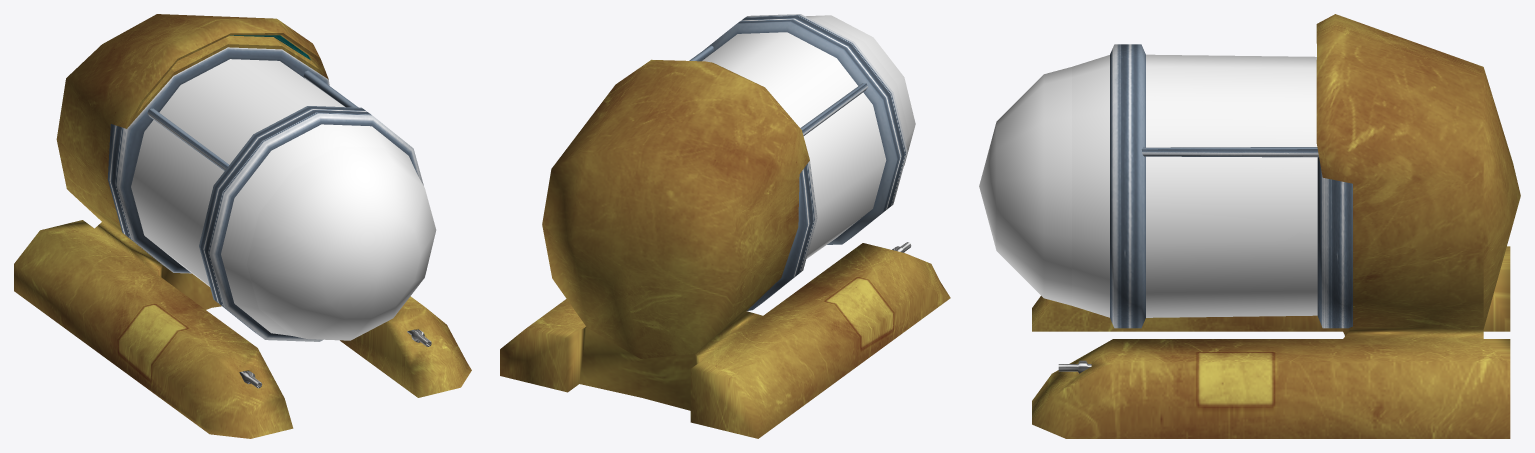
The model's file is FirstSubmarine.fbx.
3 renders of one model, left to right at view 1: azimuth 30°, elevation 25°; view 2: azimuth 150°, elevation 25°; view 3: azimuth 270°, elevation 25°, orthographic. The views are drawn at different scales.
Visible parts, largest first — view 1: polySurface9, frontGlass, backGlass; view 2: polySurface9, backGlass, frontGlass; view 3: polySurface9, backGlass, frontGlass.
Part boxes in pixels (x1=…): polySurface9: x1=14, y1=14, x2=471, y2=438; frontGlass: x1=221, y1=124, x2=436, y2=340; backGlass: x1=131, y1=59, x2=345, y2=286; polySurface9: x1=500, y1=14, x2=950, y2=438; backGlass: x1=702, y1=32, x2=886, y2=258; frontGlass: x1=806, y1=15, x2=915, y2=165; polySurface9: x1=1032, y1=14, x2=1520, y2=438; backGlass: x1=1146, y1=54, x2=1317, y2=317; frontGlass: x1=979, y1=55, x2=1109, y2=317.
Bounding box in the file's own units: 19 × 20.45 × 29.93.
2 materials, 2 textured.
